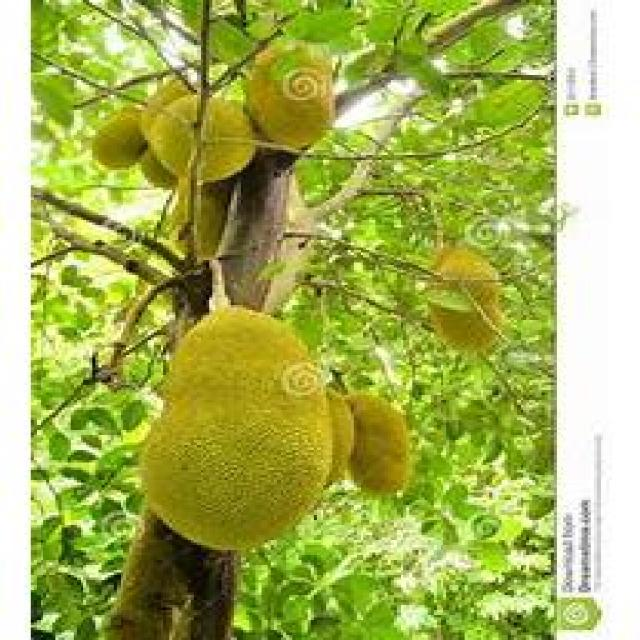Fruit: (123, 290, 354, 572)
